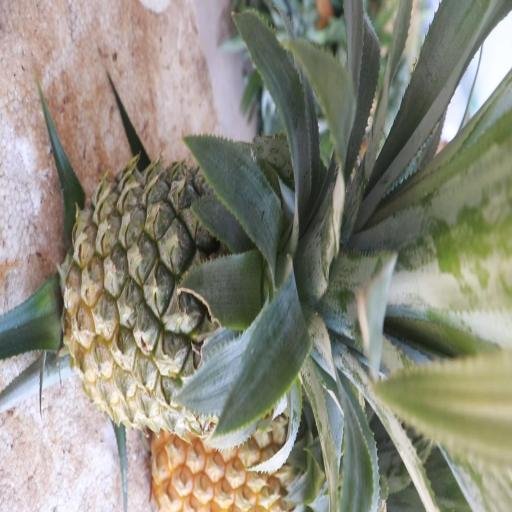------------------------------: (66, 163, 354, 429)
Pineapple - v8 v1: (152, 397, 333, 511)
